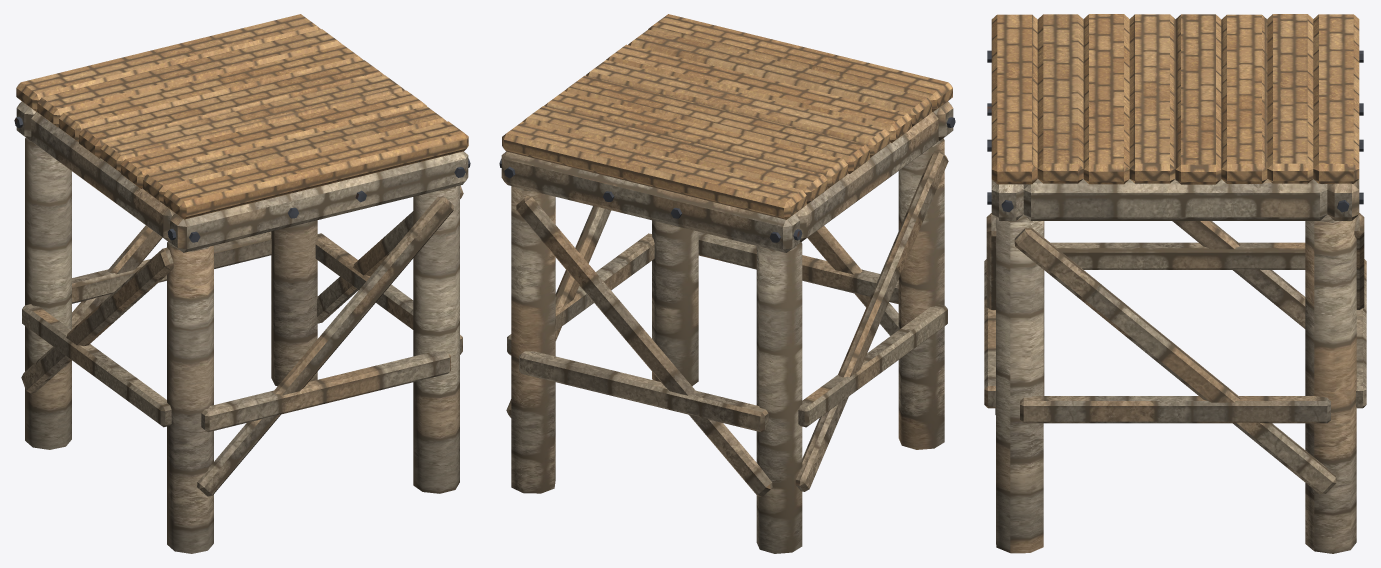
Rendered from kazik_temel.glb.
3 renders of one model, left to right at view 1: azimuth 30°, elevation 25°; view 2: azimuth 150°, elevation 25°; view 3: azimuth 270°, elevation 25°, orthographic. The views are drawn at different scales.
Visible parts, largest first — view 1: kazik_temel; view 2: kazik_temel; view 3: kazik_temel.
Boxes of the visible parts, <box> form: kazik_temel: <box>14,14,470,553</box>; kazik_temel: <box>499,14,955,553</box>; kazik_temel: <box>984,14,1366,553</box>.
Size of the model in its own units: 3.12 by 3.5 by 3.12.
1 material, 1 textured.
